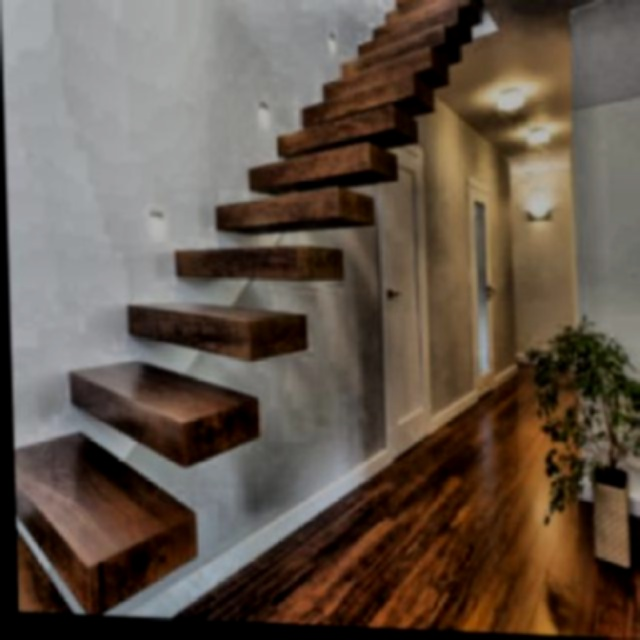stair: (2, 0, 403, 468)
